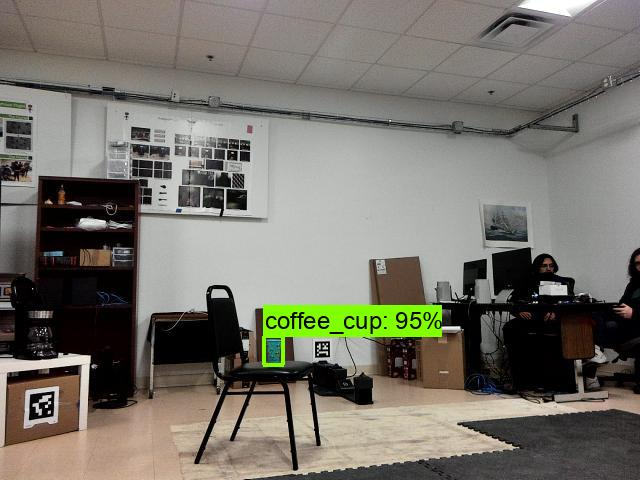coffee_cup: (264, 336, 283, 364)
